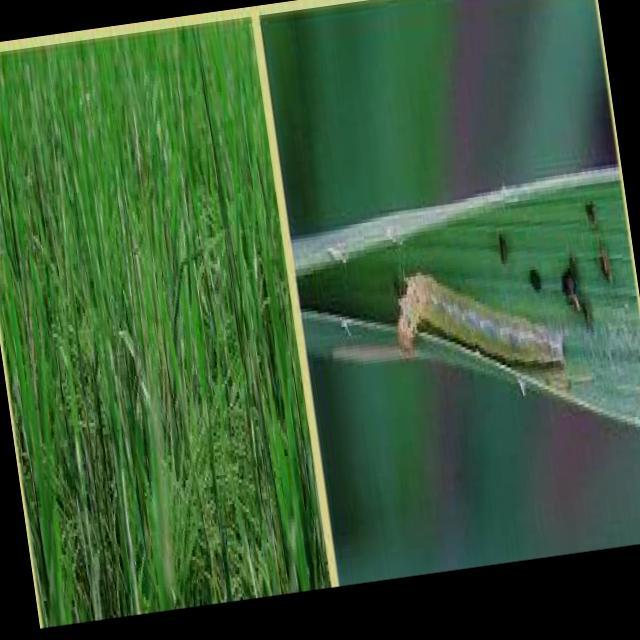leaf folder: (397, 273, 563, 369)
